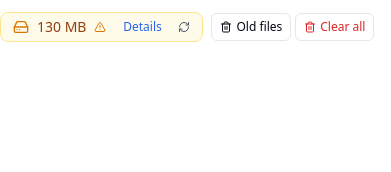
finishes every cleanup page before refreshing the remaining storage
The width and height of the screenshot is (391, 172).
Click the button "Clear all".
click(335, 27)  # box [295,13,374,41]
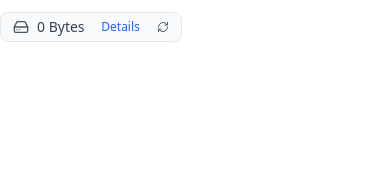
Now the text "0 Bytes" is shown, box [37,17,84,37]
